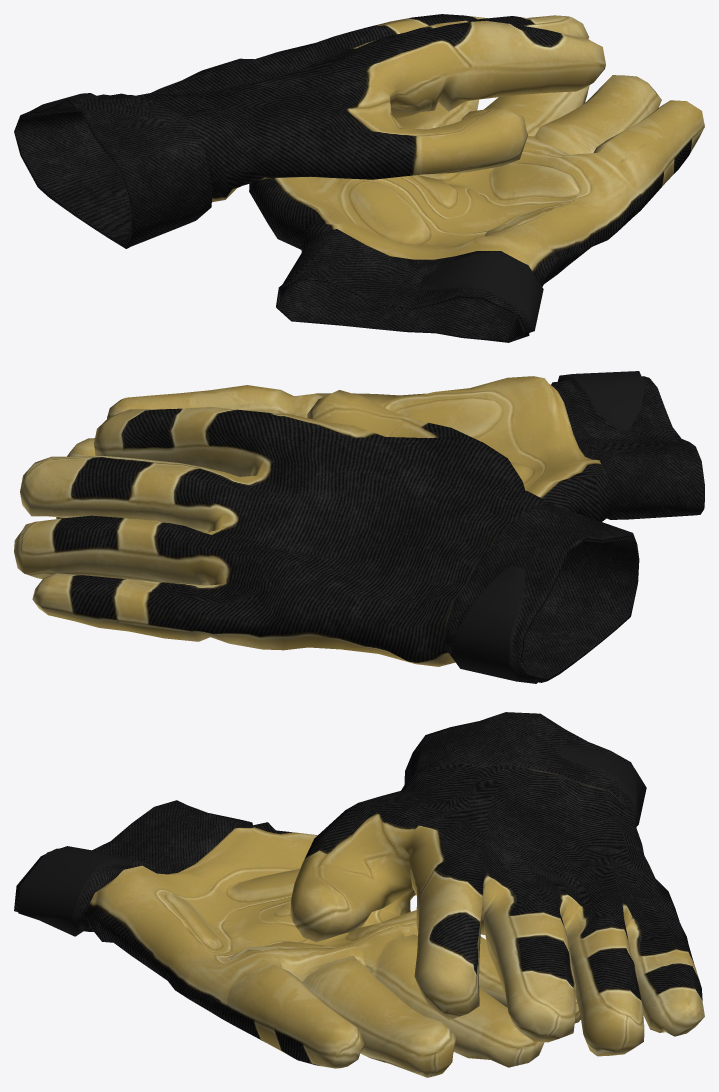
The model's file is MechanicalGloves.obj.
The picture shows the model from 3 angles, top to bottom: view 1: azimuth 30°, elevation 25°; view 2: azimuth 150°, elevation 25°; view 3: azimuth 270°, elevation 25°; orthographic projection. The views are drawn at different scales.
Visible parts, largest first — view 1: Mechanical_Gloves_MechGLoves_Mat_0_0; view 2: Mechanical_Gloves_MechGLoves_Mat_0_0; view 3: Mechanical_Gloves_MechGLoves_Mat_0_0.
Part boxes in pixels (bbox=[...]): Mechanical_Gloves_MechGLoves_Mat_0_0: bbox=[14, 14, 704, 342]; Mechanical_Gloves_MechGLoves_Mat_0_0: bbox=[14, 371, 704, 683]; Mechanical_Gloves_MechGLoves_Mat_0_0: bbox=[14, 712, 704, 1077].
Bounding box in the file's own units: 2.72 × 0.603 × 2.97.
1 material, 1 textured.
